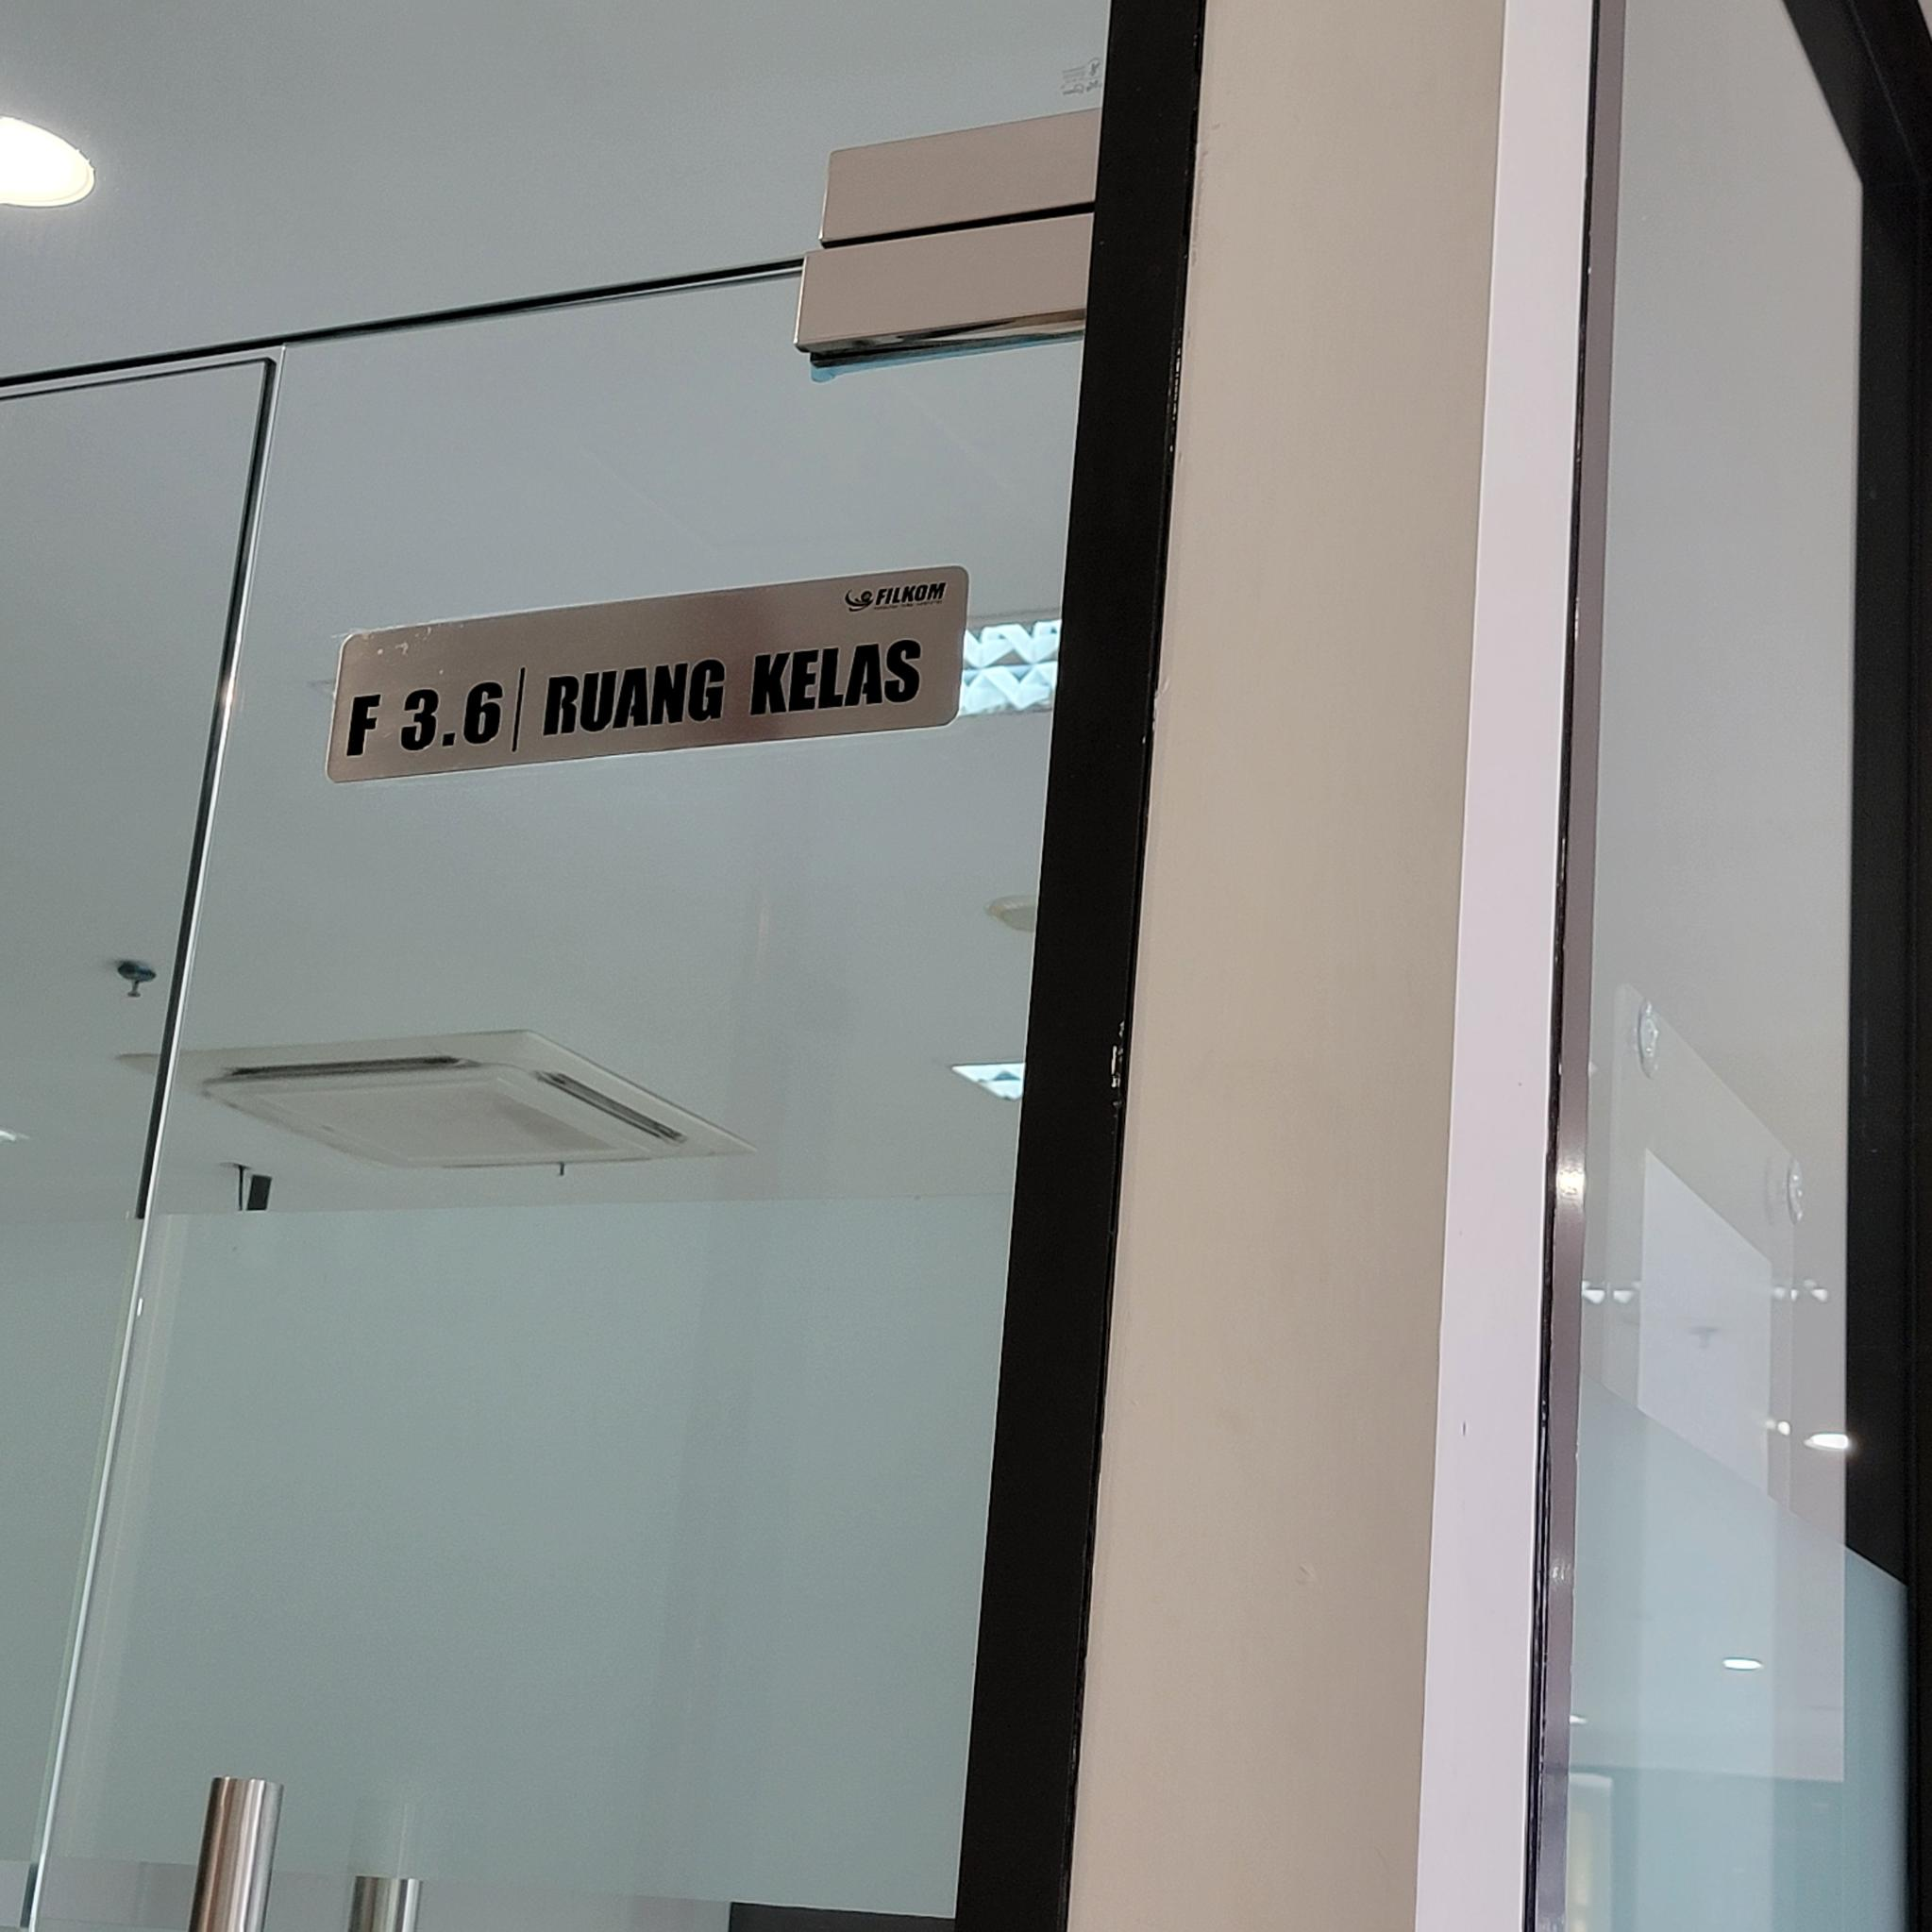plate: (329, 563, 971, 786)
